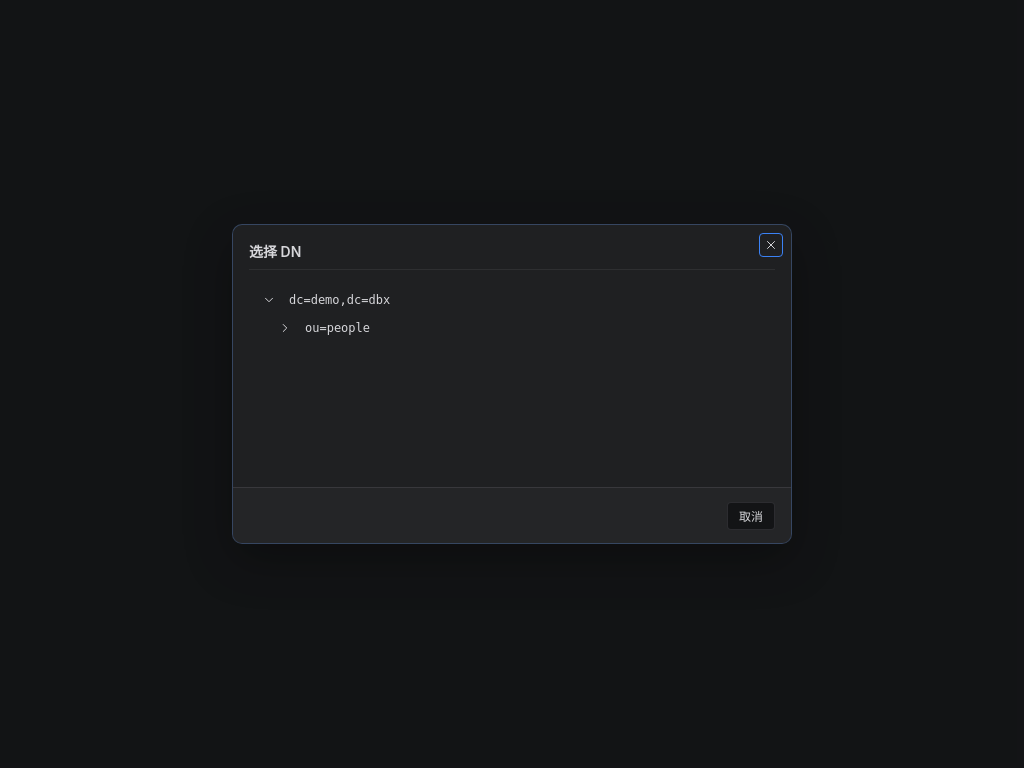
Test: DnPickerDialog › expands a node on toggle and loads only that node's children
Click the 2nd button with class "dn-picker-toggle" at (285, 328), box [273,316,297,340]
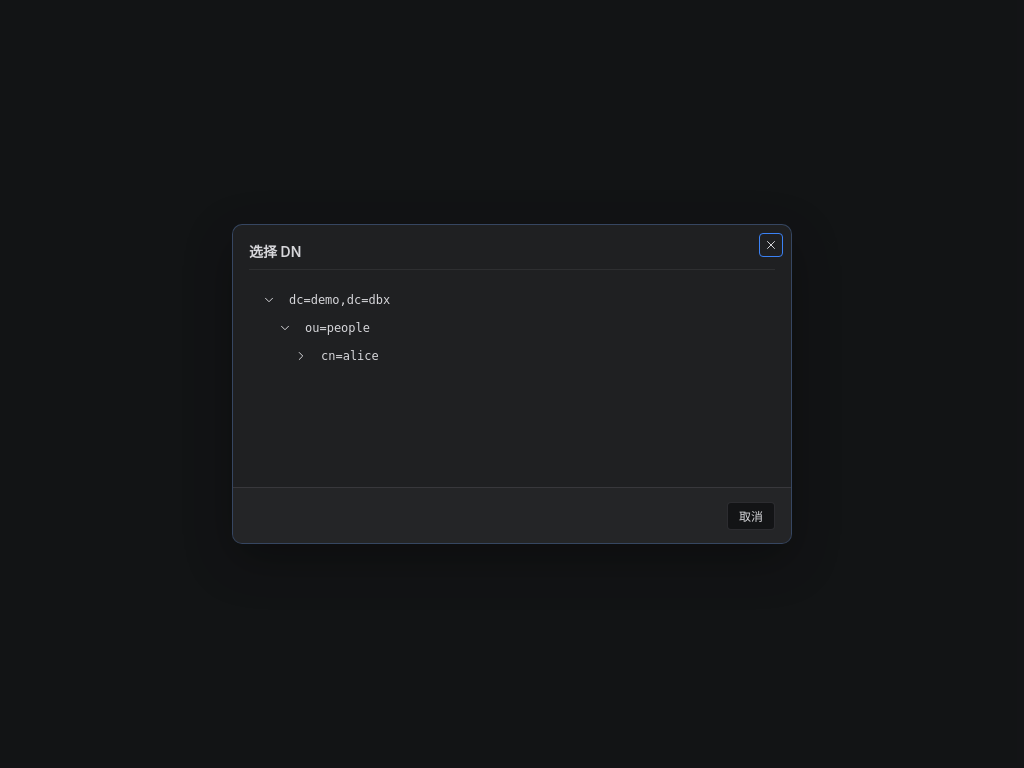
Now the list item with class "dn-picker-row" showing "cn=alice" is shown, box [249,342,775,370]
